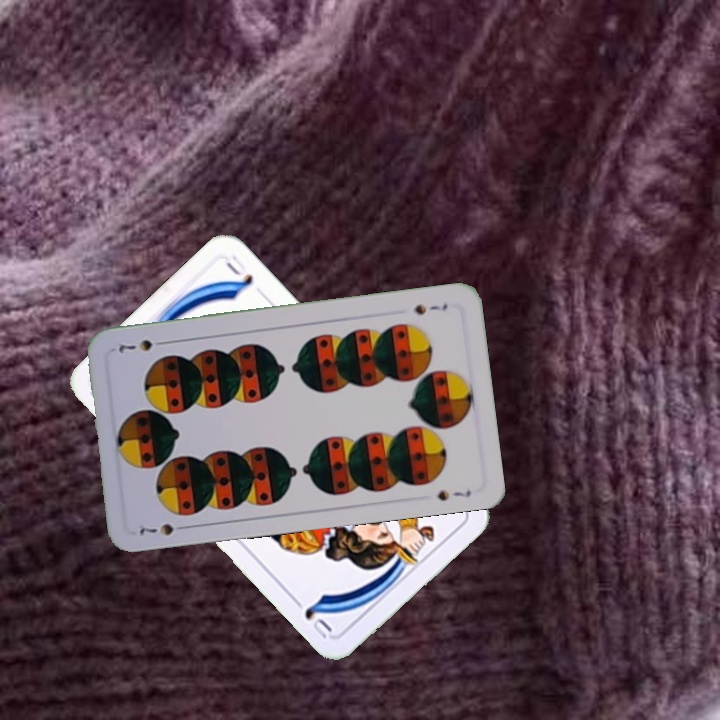S7: (135, 519, 191, 538), (410, 300, 450, 317)
